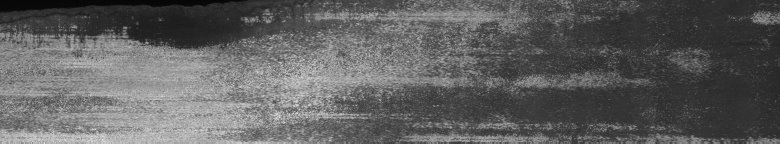kb: (4, 4, 592, 136)
